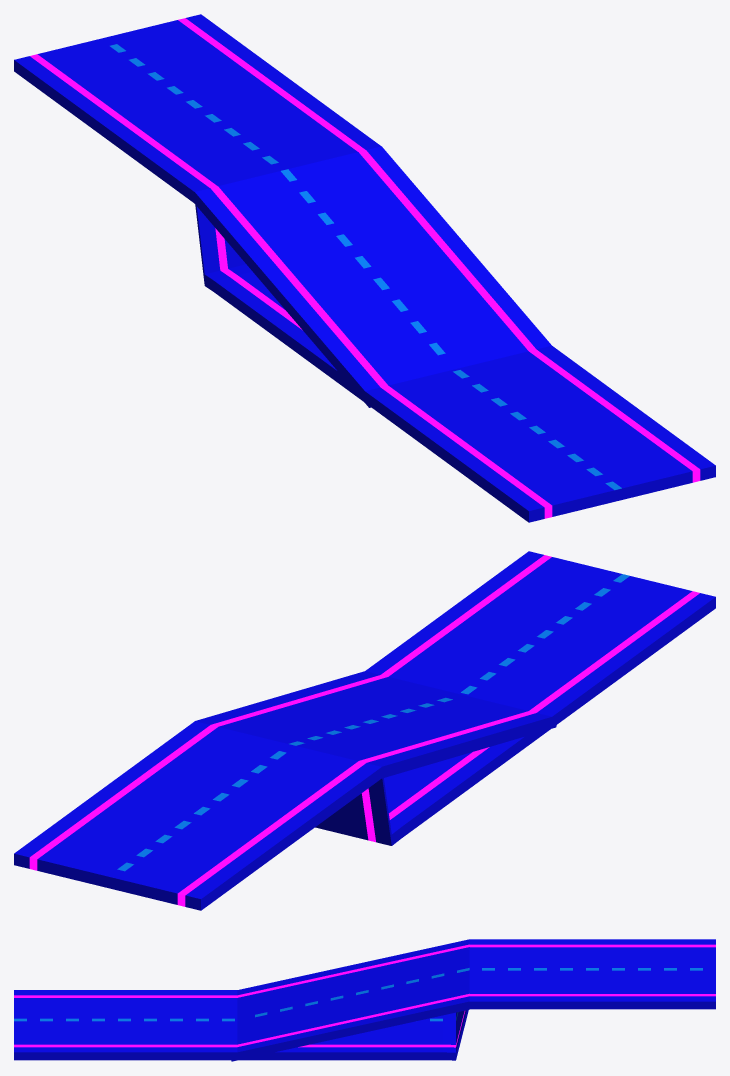
The model's file is roadUp2.fbx.
3 renders of one model, top to bottom at view 1: azimuth 30°, elevation 25°; view 2: azimuth 150°, elevation 25°; view 3: azimuth 270°, elevation 25°, orthographic. The views are drawn at different scales.
Parts seen in each view (by area): view 1: Box006; view 2: Box006; view 3: Box006.
Boxes of the visible parts, x1,y1,x2,y2 form: Box006: (14, 14, 715, 522); Box006: (14, 551, 715, 910); Box006: (14, 939, 715, 1061).
Size of the model in its own units: 508 by 229 by 2422.
